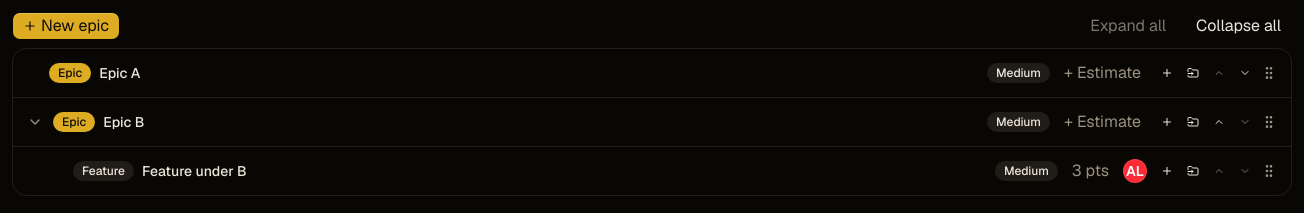
it: BacklogTree › collapses and re-expands every branch via the all-branches controls
Expected: the button "Expand all" is disabled, [1079,12,1177,40]
What coordinates should you click on to do the following:
click the button "Collapse all"
I would click on:
 (1239, 26)
Its box is [1185,12,1292,40].
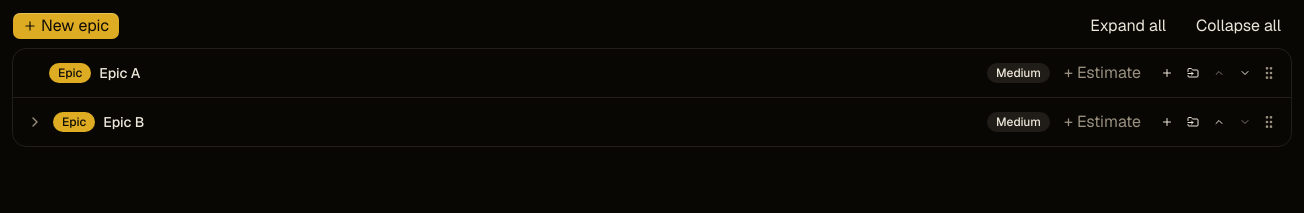
Expected: the button named "Expand Epic B" is shown, [25,112,45,132]
Expected: the button "Expand all" is enabled, [1079,12,1177,40]
